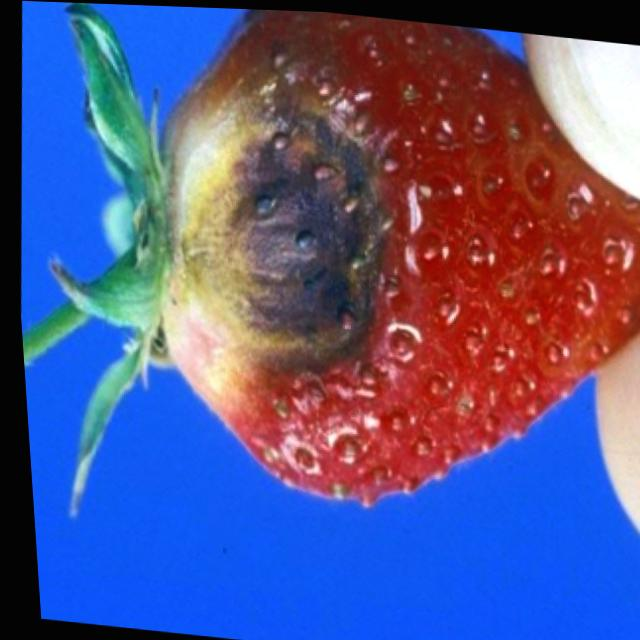Anthracnose Fruit Rot: (157, 41, 419, 425)
